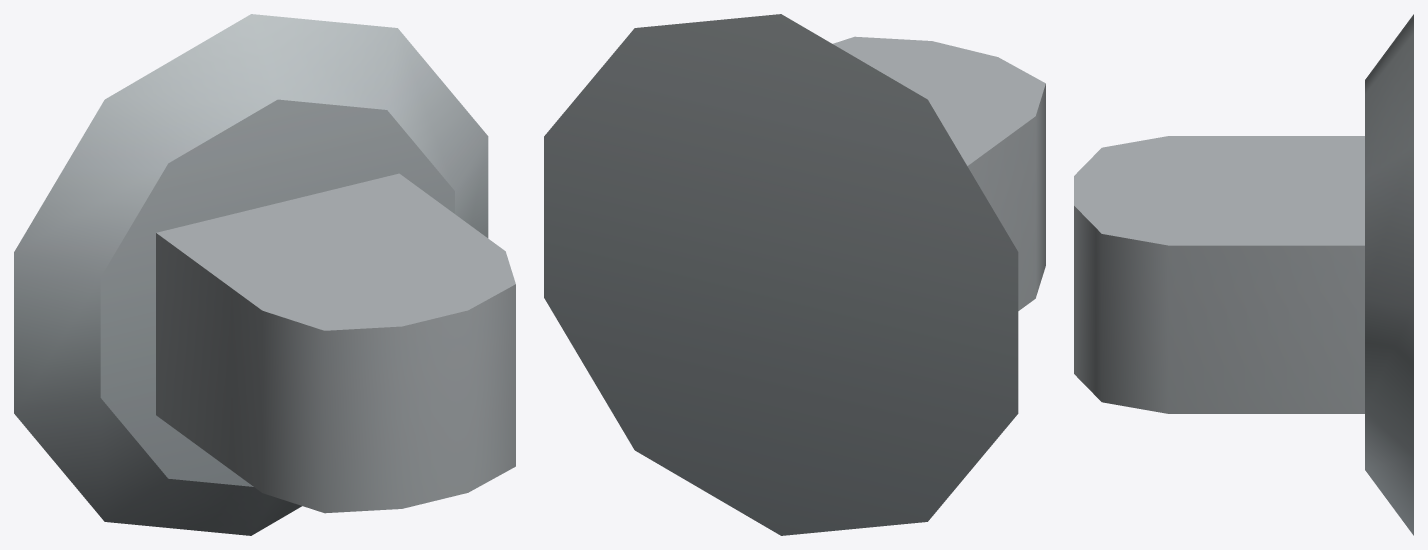
File: Security_cam_008.fbx
The picture shows the model from 3 angles, left to right: view 1: azimuth 30°, elevation 25°; view 2: azimuth 150°, elevation 25°; view 3: azimuth 270°, elevation 25°; orthographic projection. The views are drawn at different scales.
Visible parts, largest first — view 1: Security_cam_008; view 2: Security_cam_008; view 3: Security_cam_008.
Boxes of the visible parts, left/top/right/bottom form: Security_cam_008: left=14, top=14, right=515, bottom=535; Security_cam_008: left=544, top=14, right=1045, bottom=535; Security_cam_008: left=1074, top=14, right=1413, bottom=535.
Size of the model in its own units: 18.75 by 12.59 by 19.71.
